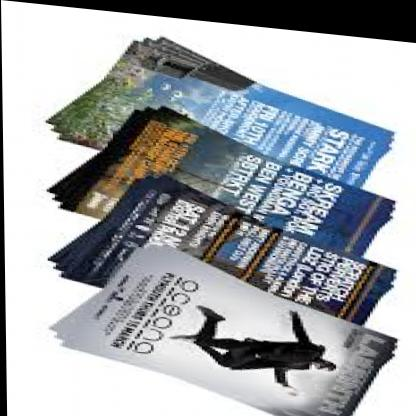Paper: (0, 18, 416, 416)
